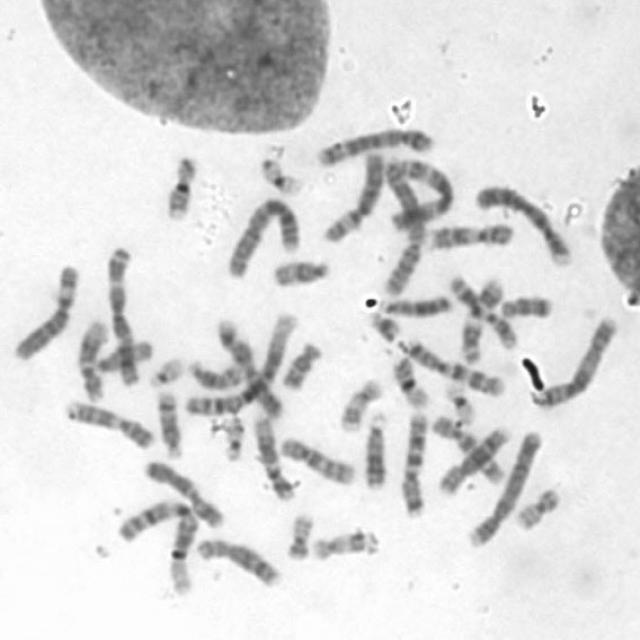A1: (179, 305, 302, 418), (112, 491, 202, 599)
A2: (374, 150, 429, 298), (221, 191, 303, 281)
A3: (382, 152, 457, 232), (103, 241, 142, 387)
B4: (463, 423, 545, 549), (470, 177, 575, 268)
B5: (527, 309, 622, 411), (312, 120, 437, 168)
C10: (428, 408, 508, 486), (275, 430, 359, 486)
C11: (445, 269, 520, 352), (456, 271, 507, 365)
C12: (249, 407, 299, 502), (72, 314, 111, 403)
C6: (8, 256, 82, 362), (316, 144, 386, 243)
C7: (397, 332, 508, 398), (396, 405, 432, 520)
C8: (432, 418, 514, 497), (191, 530, 284, 589)
C9: (59, 393, 158, 451), (419, 215, 516, 253)
D13: (358, 406, 391, 491), (375, 288, 454, 318)
D14: (152, 384, 187, 459), (184, 353, 246, 391)
D15: (90, 333, 156, 374), (267, 253, 334, 289)
E16: (160, 149, 201, 222), (386, 347, 432, 411)
E17: (306, 523, 382, 563), (335, 372, 384, 433)
E18: (276, 334, 326, 391), (494, 289, 556, 320)
F19: (255, 150, 305, 197), (439, 373, 480, 425)
F20: (511, 481, 564, 532), (280, 505, 316, 561)
G21: (363, 304, 403, 344), (213, 315, 244, 357)
G22: (217, 408, 247, 463), (143, 351, 186, 388)
X: (140, 452, 228, 530), (229, 336, 285, 421)
